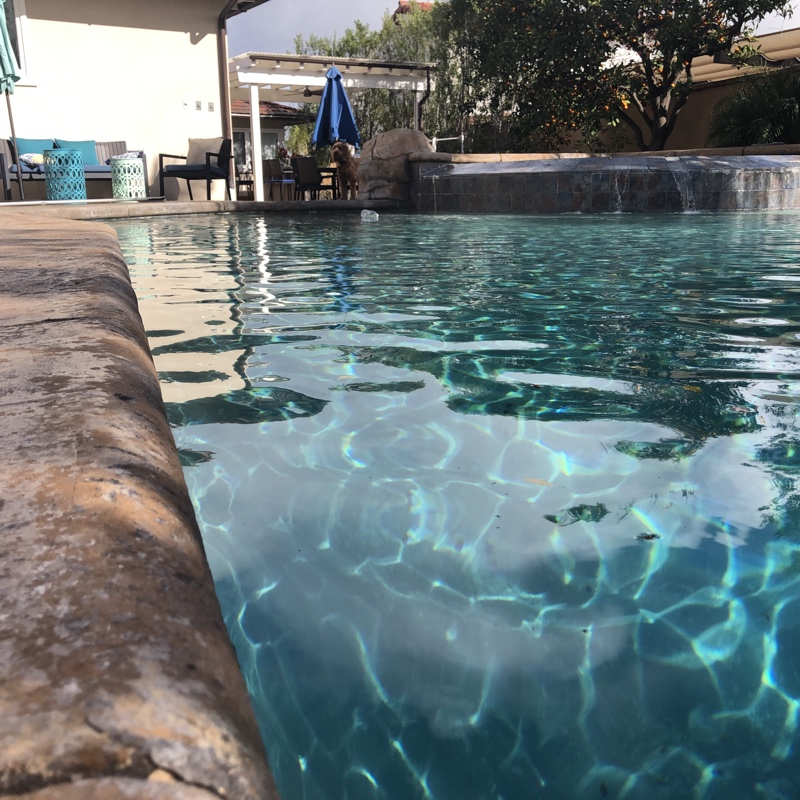Plastic Bottle: (356, 206, 381, 227)
